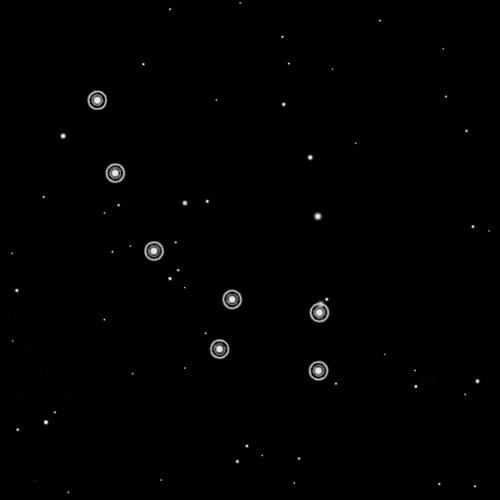ursa_minor: (82, 85, 333, 387)
